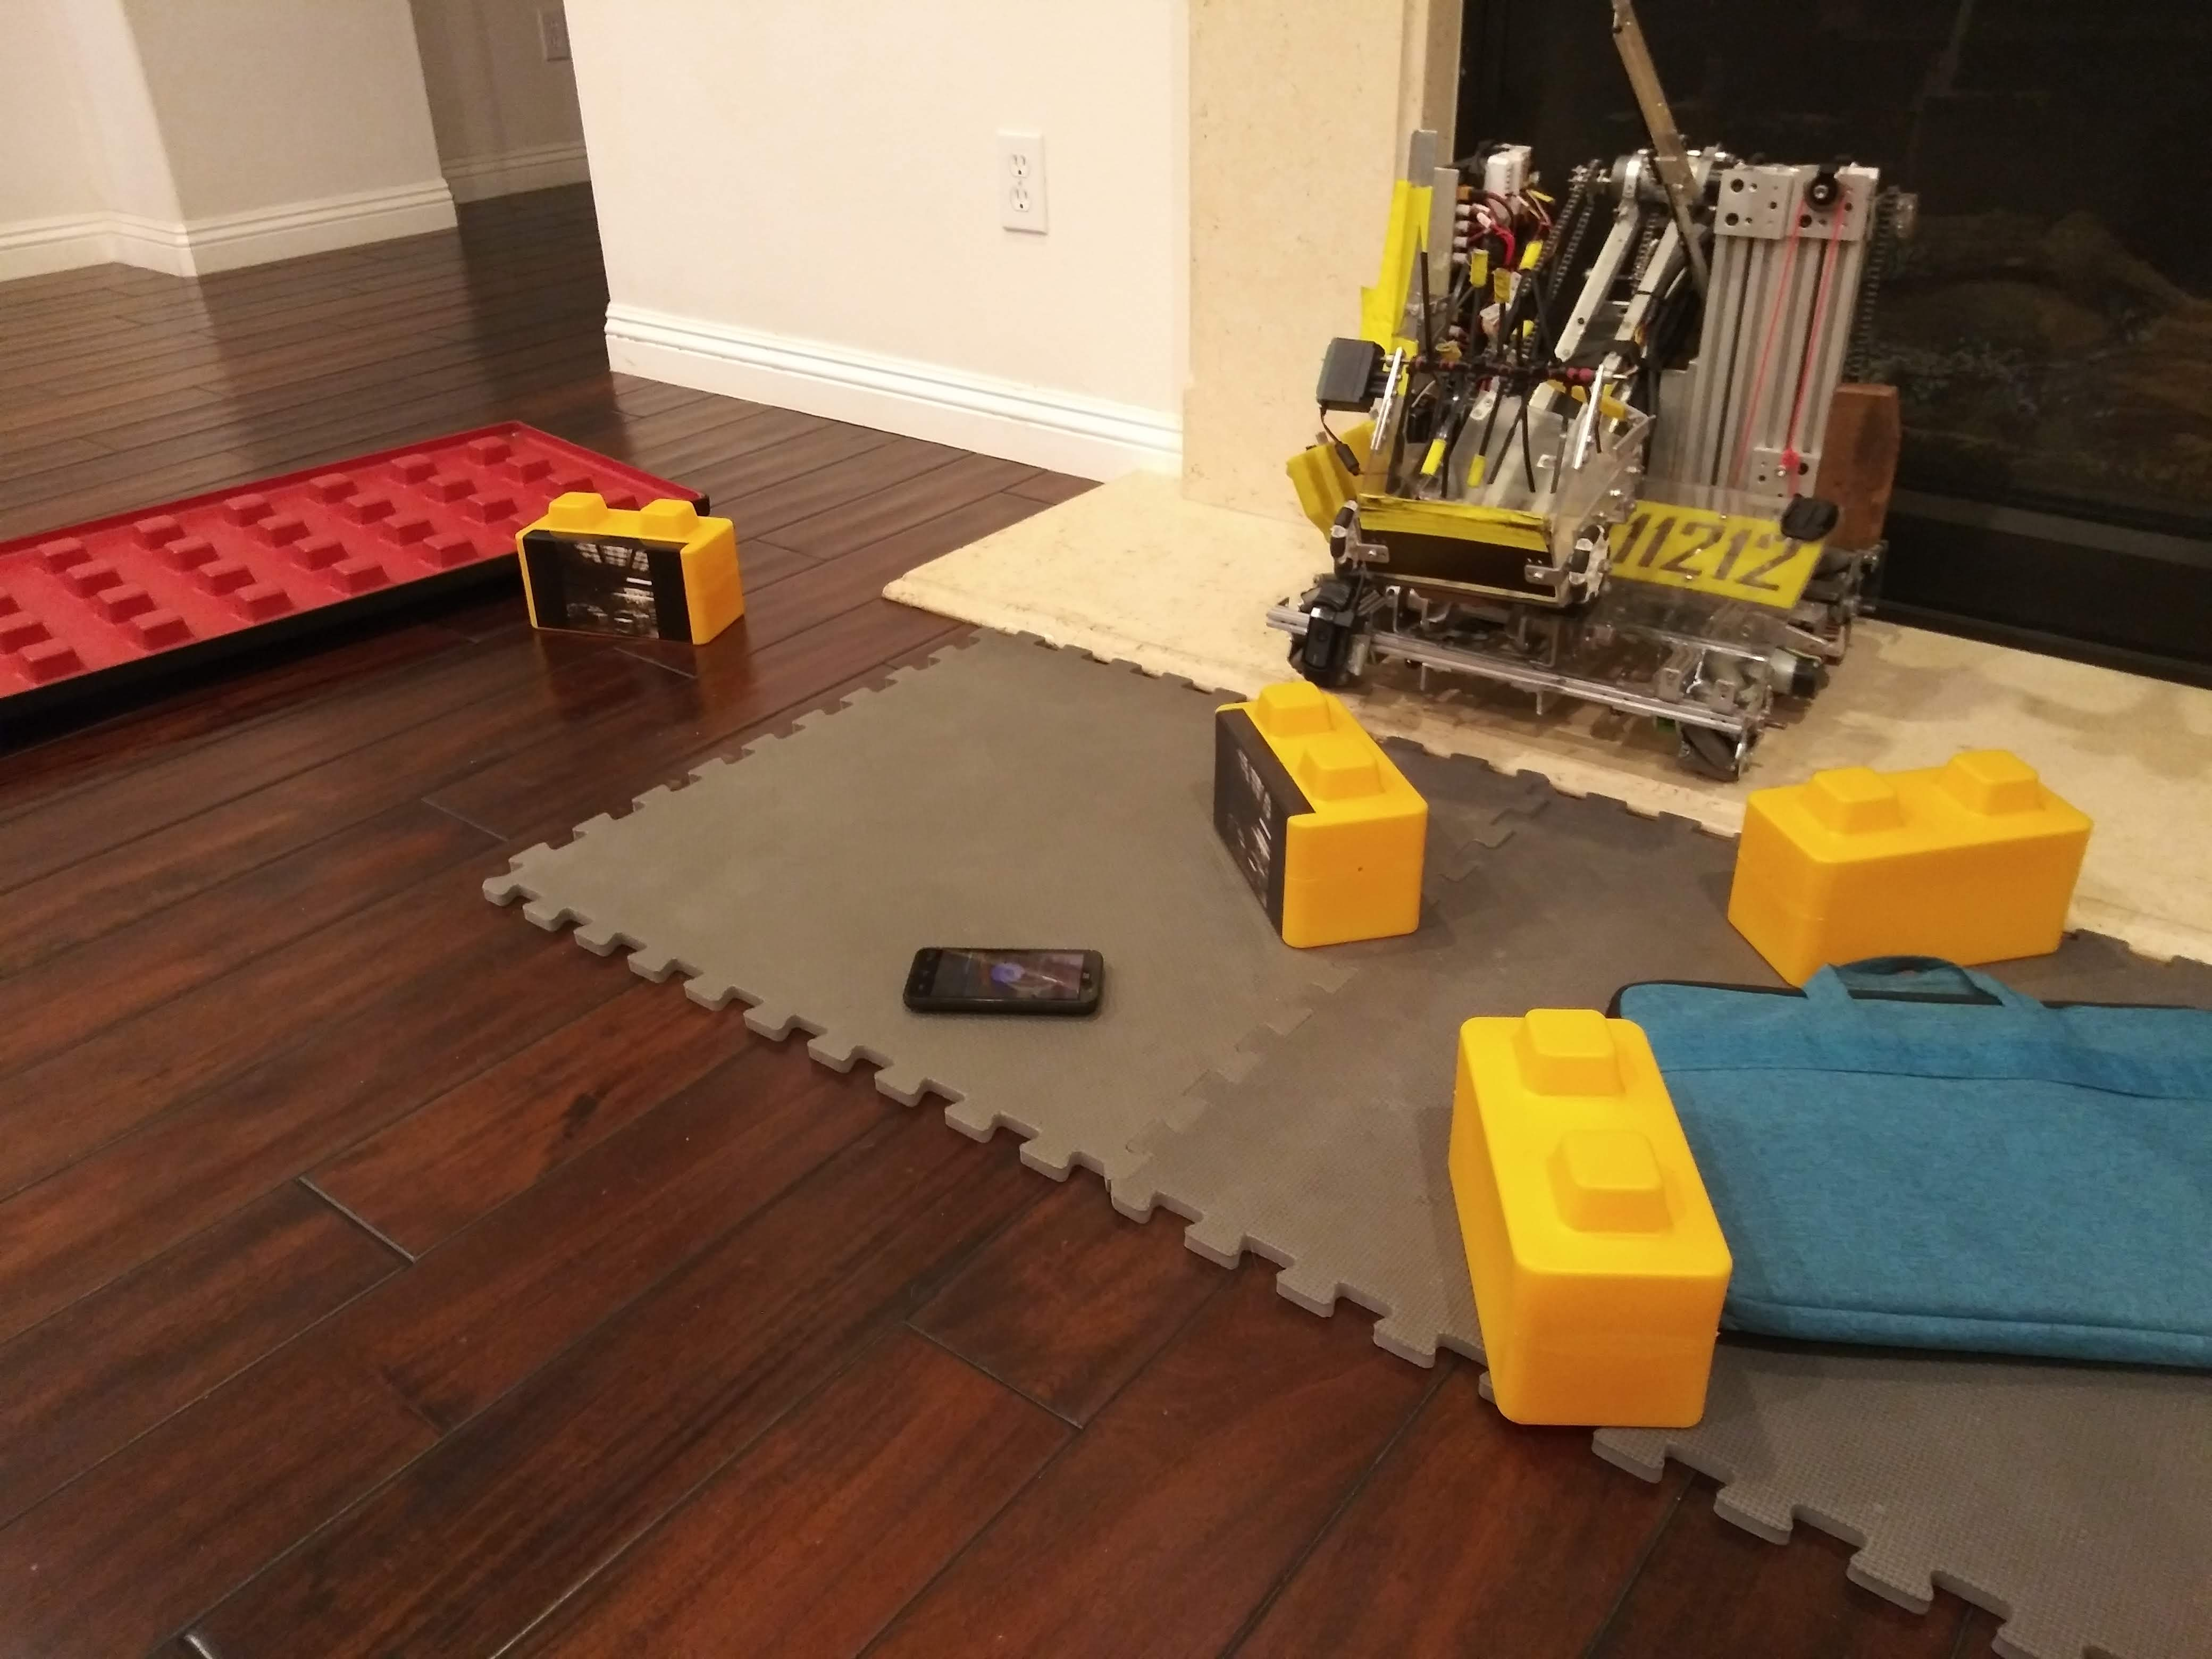skystone: (1198, 708, 1423, 953), (509, 500, 744, 659)
stone: (1418, 1012, 1738, 1405), (1735, 762, 2064, 964)
